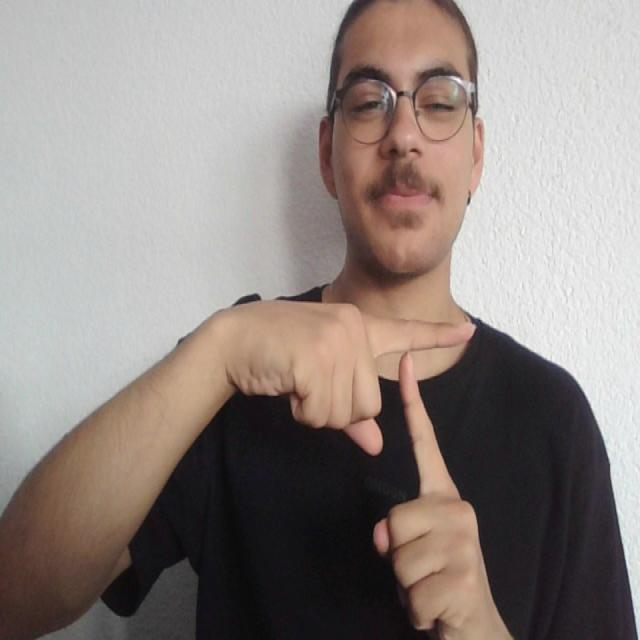Tesekkurler: (358, 290, 476, 519)
